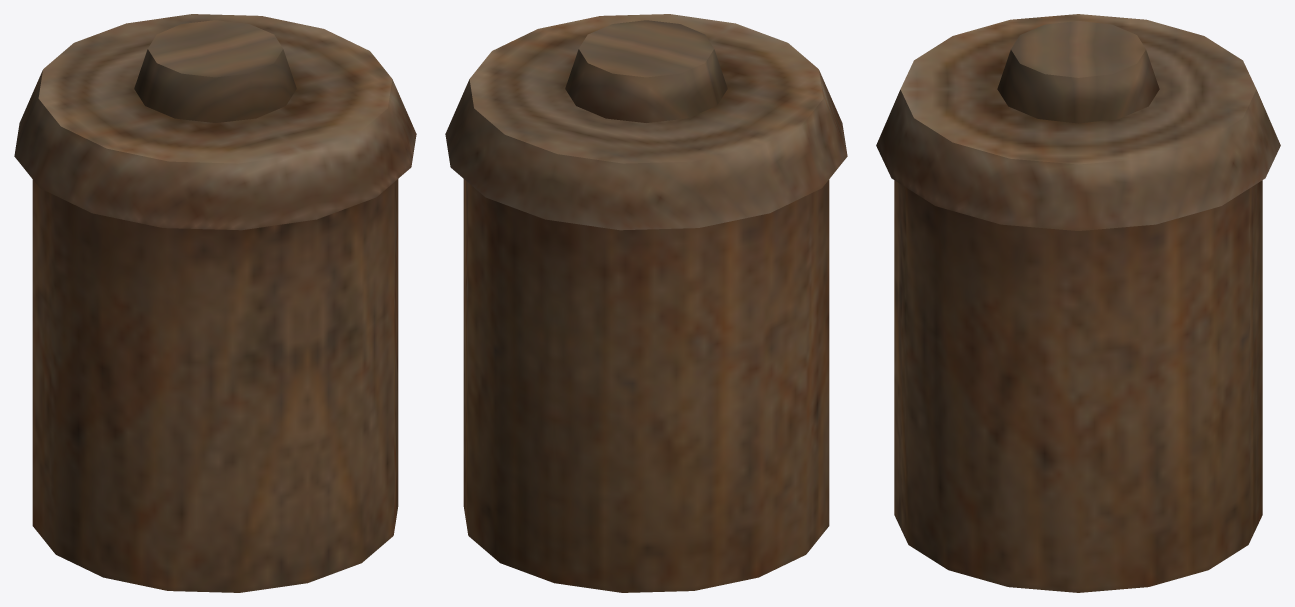
The model's file is village_pot.fbx.
3 views of the same model, side by side, from view 1: azimuth 30°, elevation 25°; view 2: azimuth 150°, elevation 25°; view 3: azimuth 270°, elevation 25° (orthographic).
Parts seen in each view (by area): view 1: village_pot; view 2: village_pot; view 3: village_pot.
Part boxes in pixels (x1,y1,x2,y2): village_pot: (14, 14, 416, 592); village_pot: (445, 14, 847, 592); village_pot: (876, 14, 1280, 592).
Bounding box in the file's own units: 25.51 × 32.39 × 25.51.
